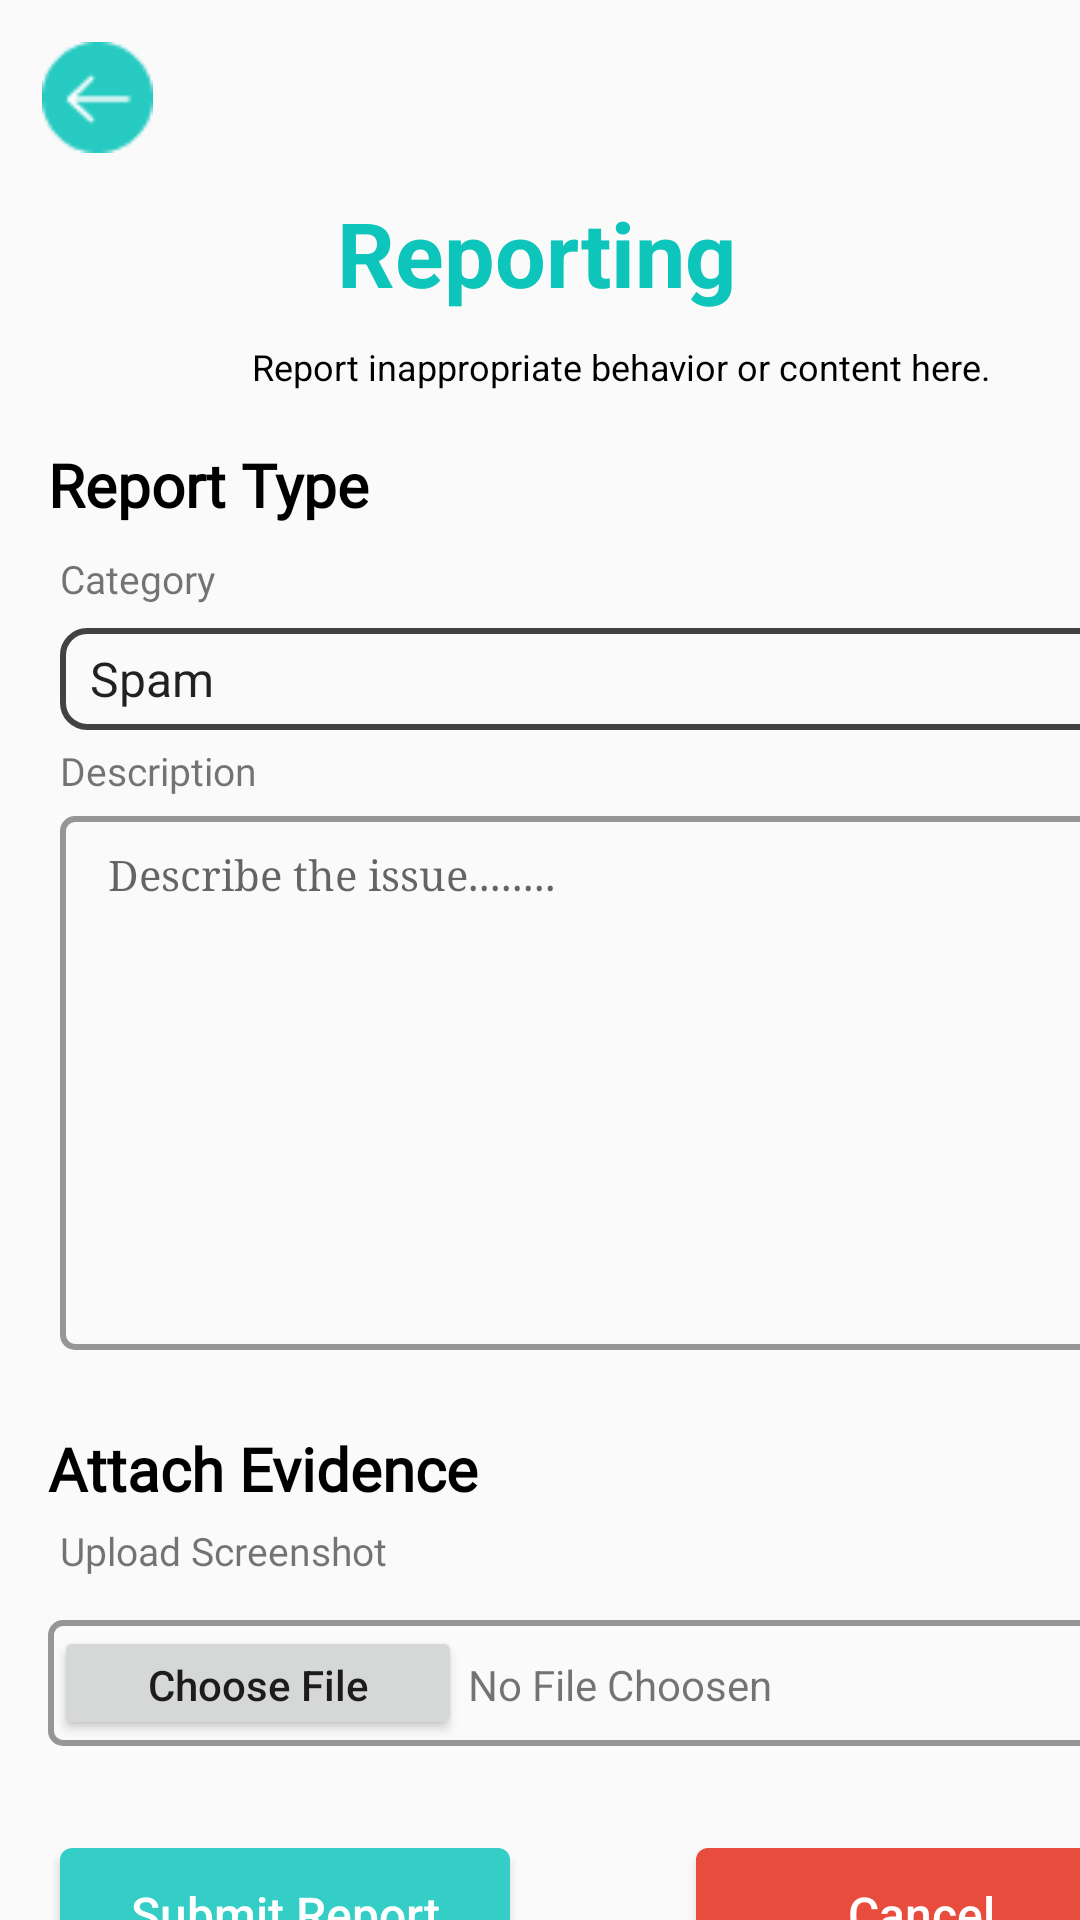

Locate icon controls on the screen. Image size 1080×1920, boxes as (x1,y1,x2,y2).
backblue: (42,42,153,153)
